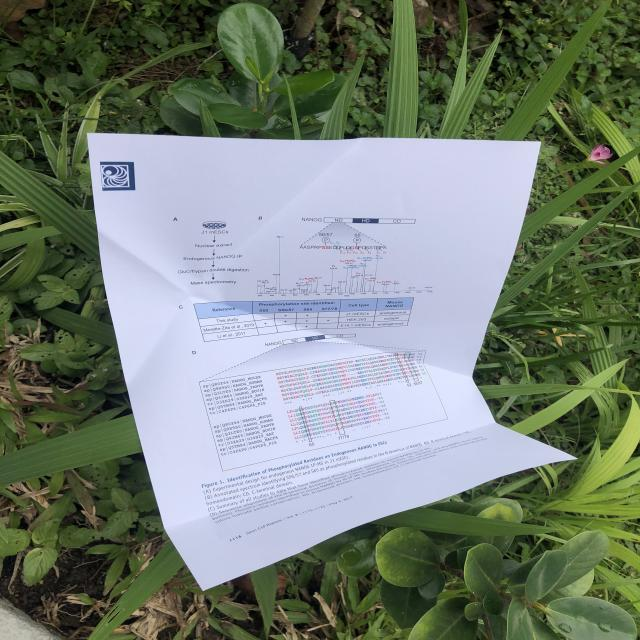kertas: (87, 89, 581, 596)
